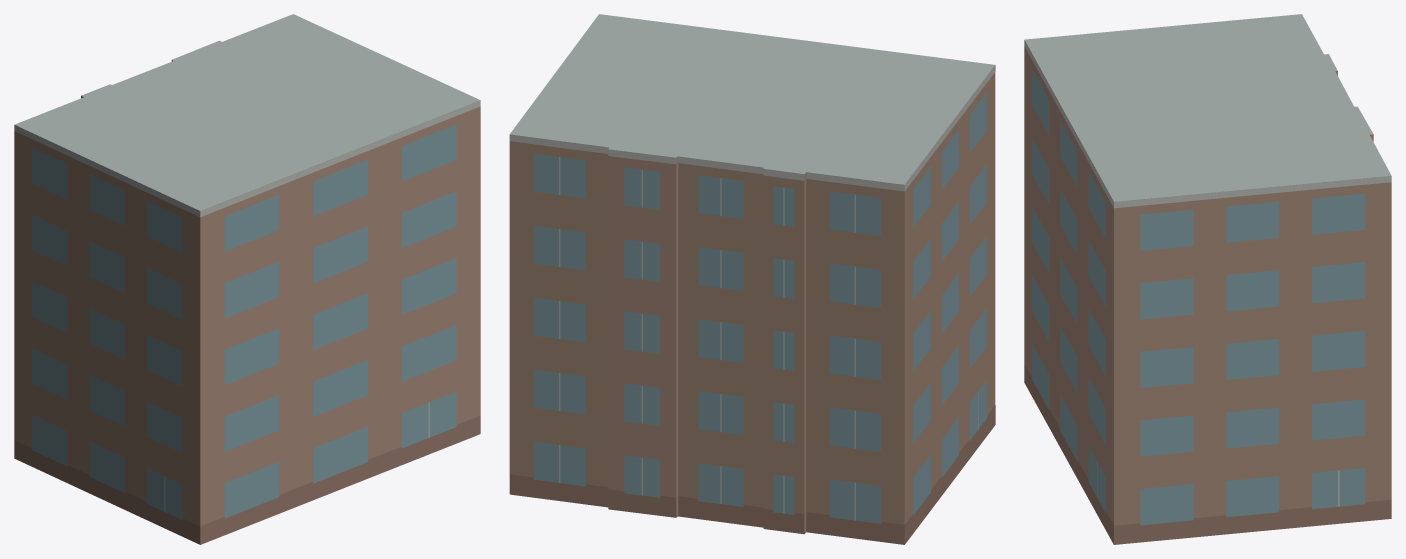
The model's file is survey-upis-32867130.glb.
3 renders of one model, left to right at view 1: azimuth 30°, elevation 25°; view 2: azimuth 150°, elevation 25°; view 3: azimuth 270°, elevation 25°, orthographic. The views are drawn at different scales.
Parts seen in each view (by area): view 1: survey-upis-32867130.tmp; view 2: survey-upis-32867130.tmp; view 3: survey-upis-32867130.tmp.
Part boxes in pixels (x1,y1,x2,y2): survey-upis-32867130.tmp: [14, 14, 480, 544]; survey-upis-32867130.tmp: [509, 14, 995, 544]; survey-upis-32867130.tmp: [1024, 14, 1391, 544].
Bounding box in the file's own units: 15.4 × 13.1 × 12.72.
